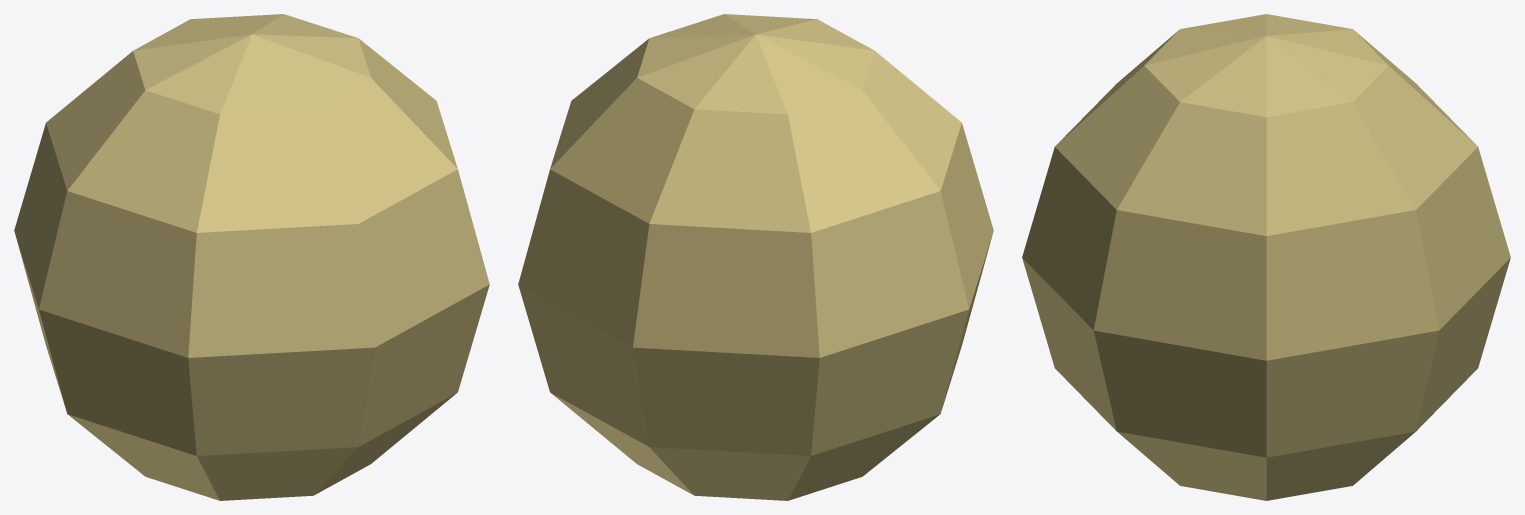
Rendered from sphere_flower_yellow.gltf.
3 renders of one model, left to right at view 1: azimuth 30°, elevation 25°; view 2: azimuth 150°, elevation 25°; view 3: azimuth 270°, elevation 25°, orthographic.
Parts seen in each view (by area): view 1: mesh; view 2: mesh; view 3: mesh.
Part boxes in pixels (x1=…): mesh: x1=14, y1=14, x2=489, y2=500; mesh: x1=518, y1=14, x2=993, y2=500; mesh: x1=1022, y1=14, x2=1510, y2=500.
Size of the model in its own units: 0.26 by 0.26 by 0.26.
